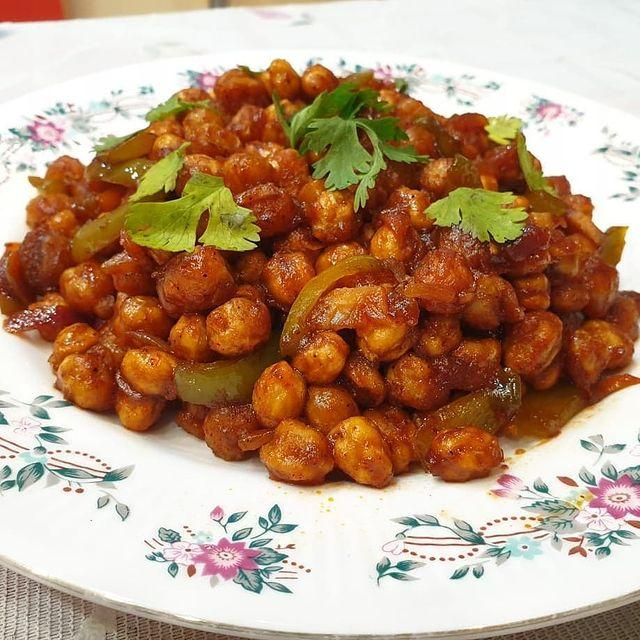Chole: (4, 41, 640, 496)
